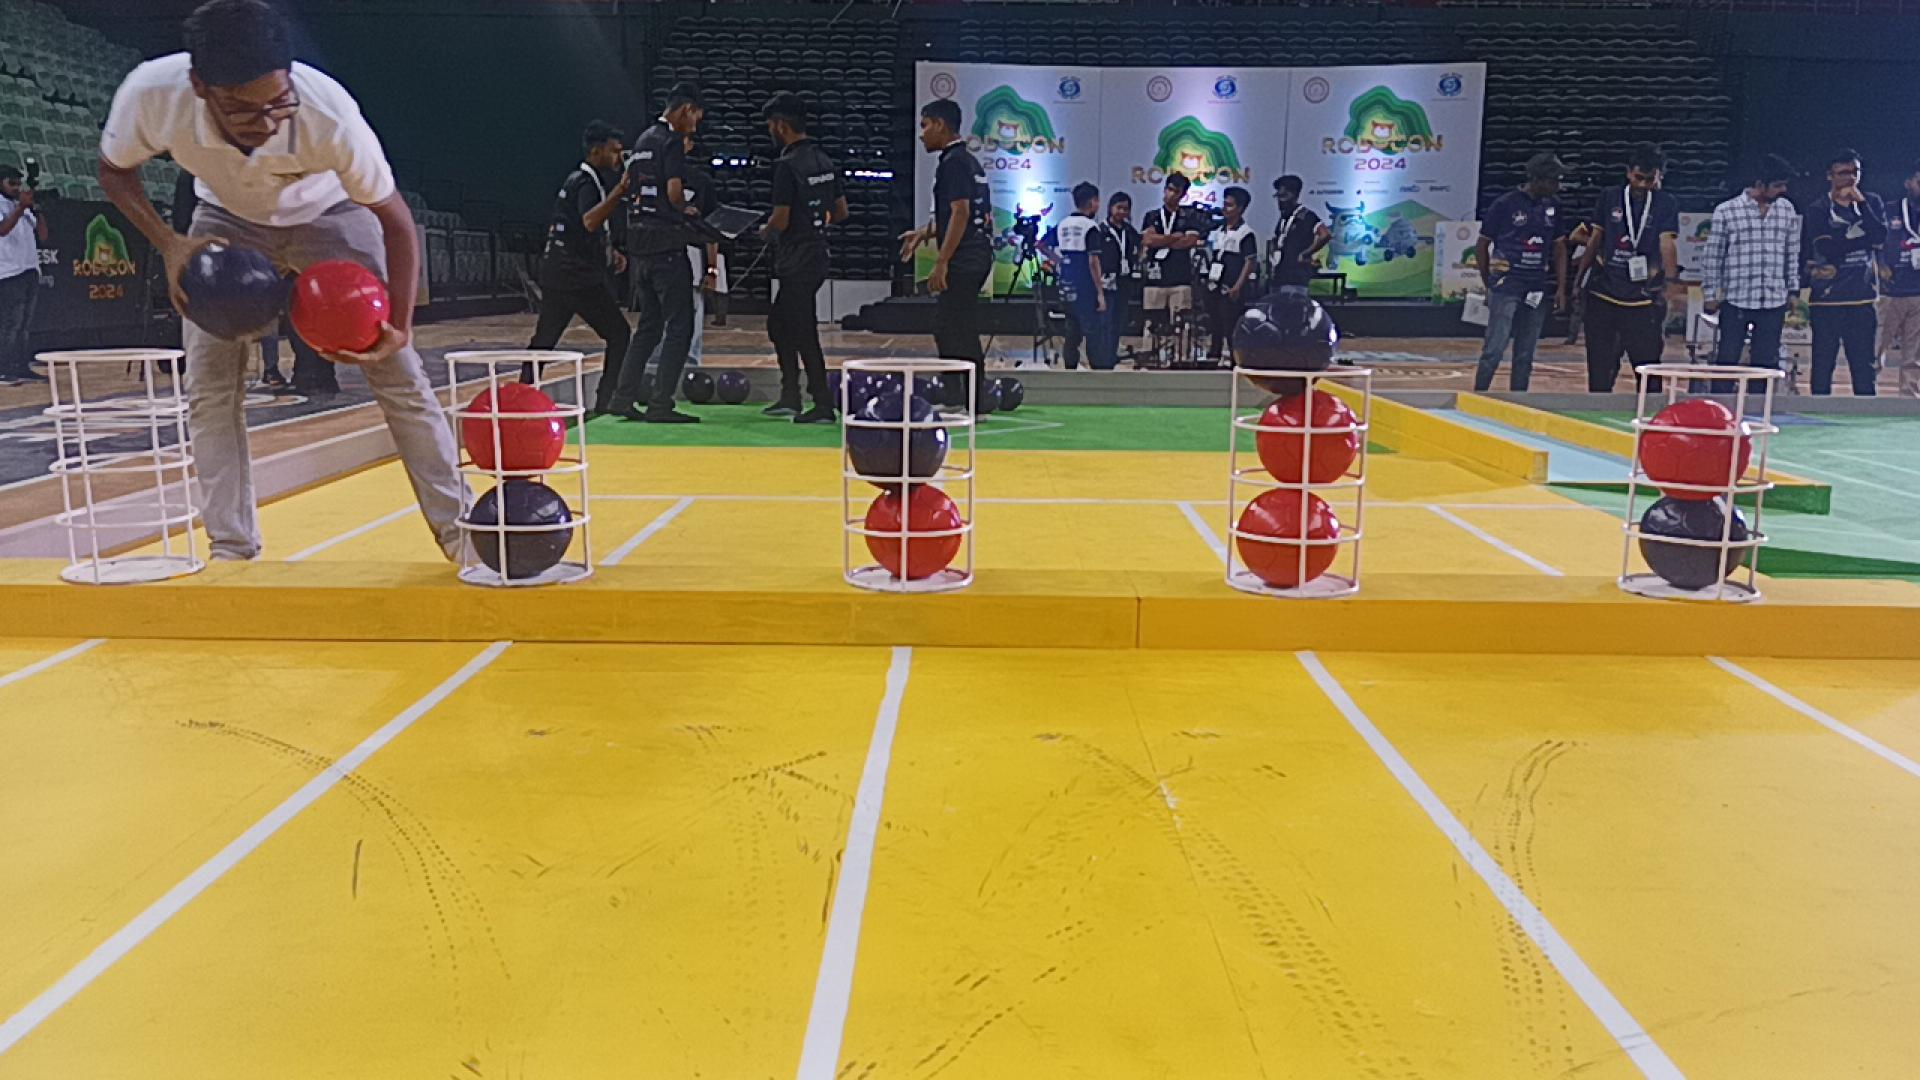dhoka: (1230, 293, 1338, 397), (468, 476, 574, 582), (1639, 495, 1747, 592), (844, 390, 948, 489)
laale: (1639, 397, 1751, 502), (1237, 488, 1338, 588), (1257, 390, 1361, 484), (866, 484, 964, 582), (462, 382, 563, 472)
